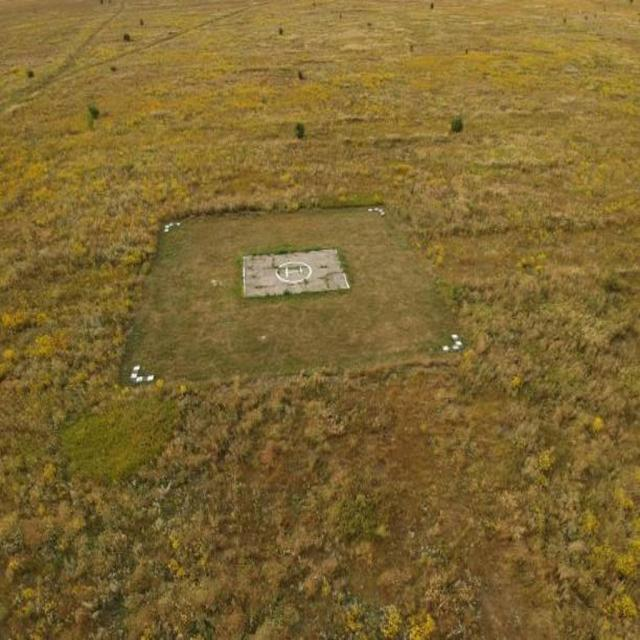helipad: (274, 260, 312, 282)
